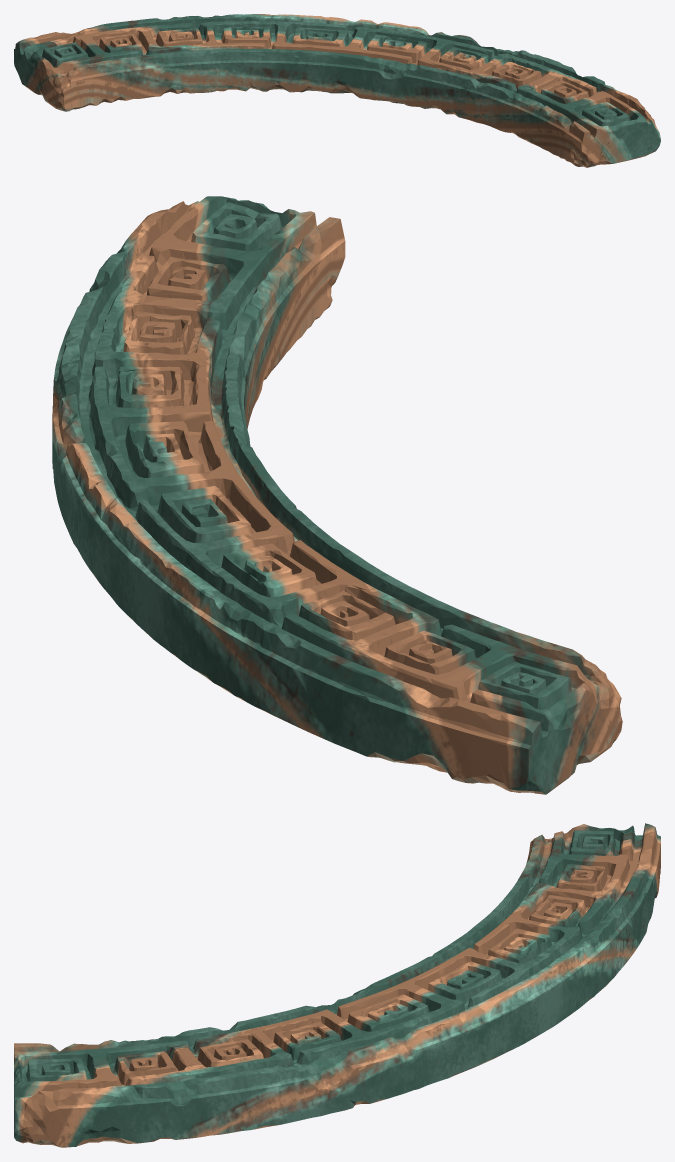
File: SM_StonePattern_A.fbx
The picture shows the model from 3 angles, top to bottom: view 1: azimuth 30°, elevation 25°; view 2: azimuth 150°, elevation 25°; view 3: azimuth 270°, elevation 25°; orthographic projection. The views are drawn at different scales.
Visible parts, largest first — view 1: SM_StonePattern_A_LOD0; view 2: SM_StonePattern_A_LOD0; view 3: SM_StonePattern_A_LOD0.
Boxes of the visible parts, x1=… form: SM_StonePattern_A_LOD0: x1=14, y1=14, x2=660, y2=167; SM_StonePattern_A_LOD0: x1=52, y1=196, x2=622, y2=794; SM_StonePattern_A_LOD0: x1=14, y1=823, x2=660, y2=1147.
Size of the model in its own units: 230 by 230 by 21.17.
